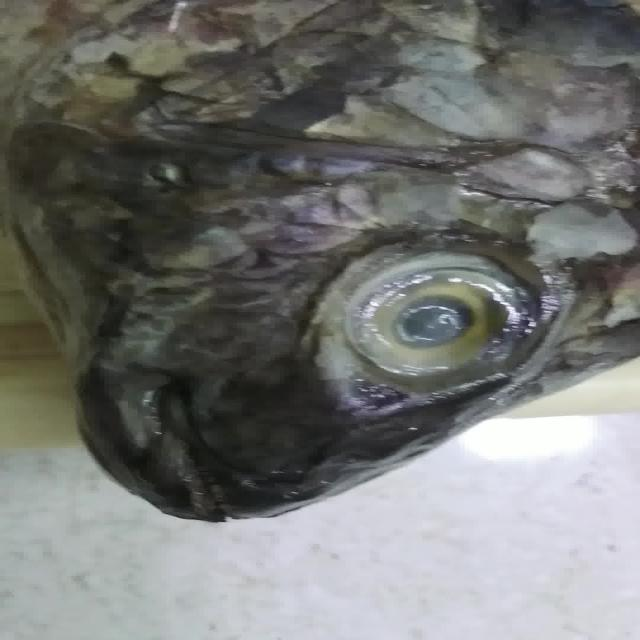Non-Fresh: (306, 229, 547, 403)
